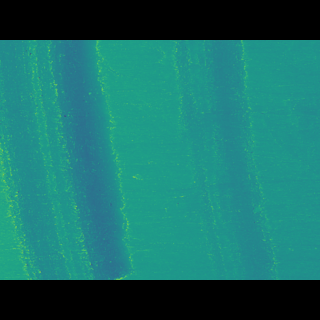Loch: (0, 70, 134, 250), (170, 70, 282, 249)
